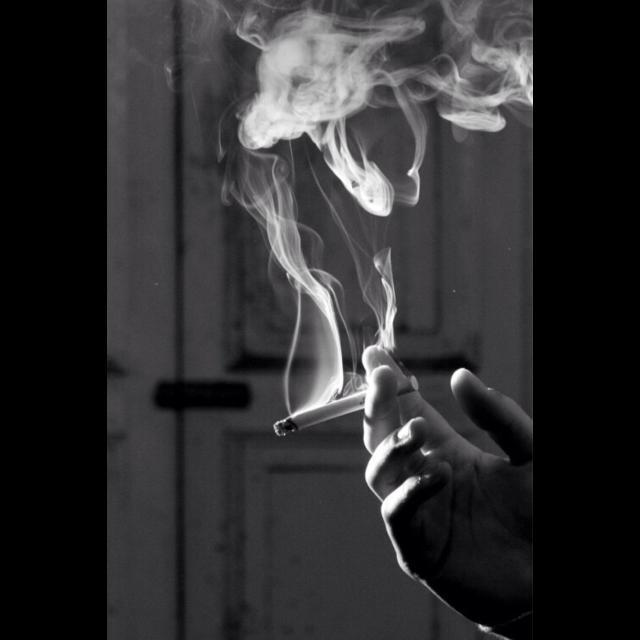rokok: (267, 368, 423, 442)
